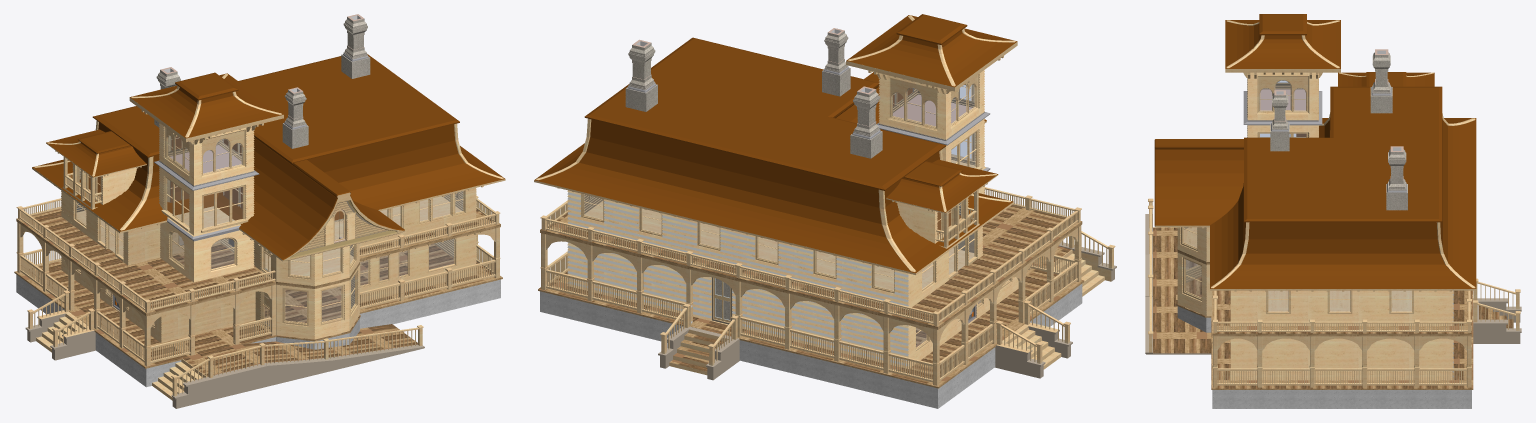
The model's file is building_house.glb.
3 views of the same model, side by side, from view 1: azimuth 30°, elevation 25°; view 2: azimuth 150°, elevation 25°; view 3: azimuth 270°, elevation 25° (orthographic). The views are drawn at different scales.
Parts seen in each view (by area): view 1: 3DSMeshMatrix (×3); view 2: 3DSMeshMatrix (×3); view 3: 3DSMeshMatrix (×3).
Part boxes in pixels (left/top/right/bottom): 3DSMeshMatrix (×3): left=14, top=14, right=505, bottom=408; 3DSMeshMatrix (×3): left=534, top=14, right=1116, bottom=408; 3DSMeshMatrix (×3): left=1145, top=14, right=1521, bottom=408.
Bounding box in the file's own units: 4.7 × 2.81 × 3.73.
Materials: 6 (6 with a texture image).
